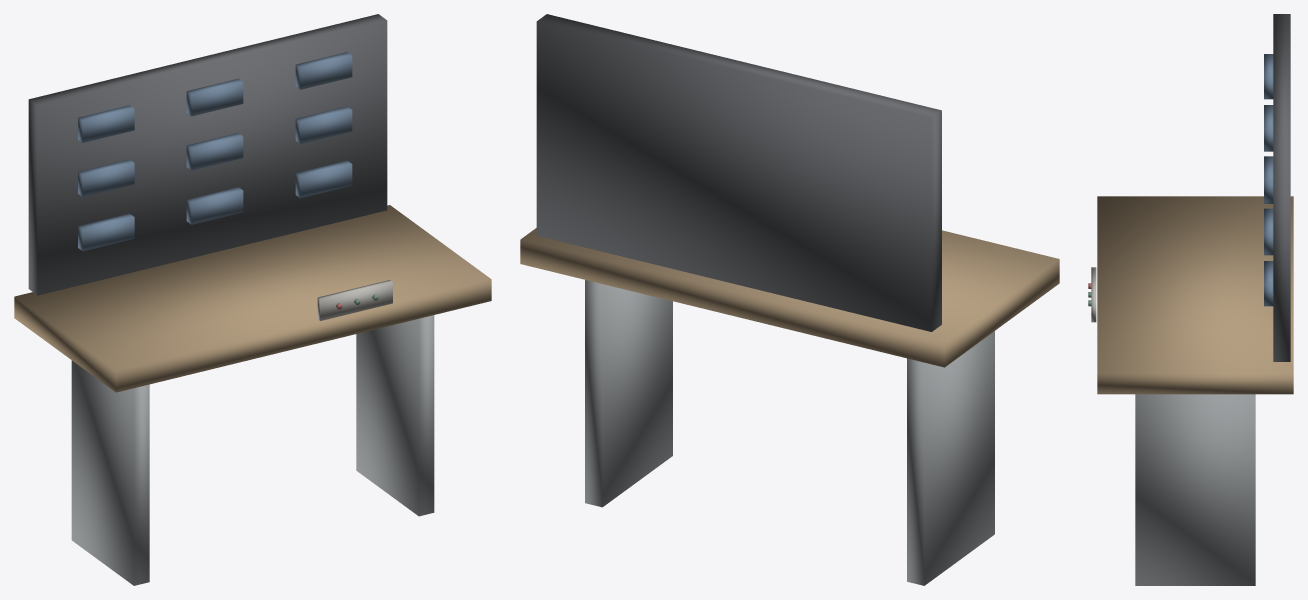
The model's file is electronics_repair_bench.glb.
3 renders of one model, left to right at view 1: azimuth 30°, elevation 25°; view 2: azimuth 150°, elevation 25°; view 3: azimuth 270°, elevation 25°, orthographic. The views are drawn at different scales.
Visible parts, largest first — view 1: world; view 2: world; view 3: world.
Part boxes in pixels (x1,y1,x2,y2): world: [14, 14, 491, 585]; world: [520, 14, 1059, 585]; world: [1088, 14, 1293, 585].
Bounding box in the file's own units: 1.45 × 1.6 × 0.711.
